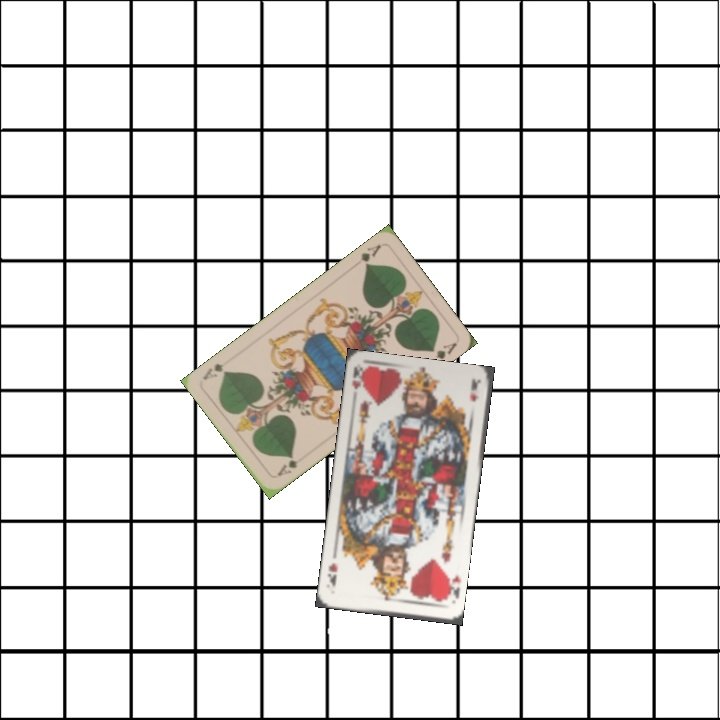GA: (356, 240, 384, 269), (273, 452, 300, 479)
HK: (441, 571, 463, 603), (348, 364, 368, 392)
